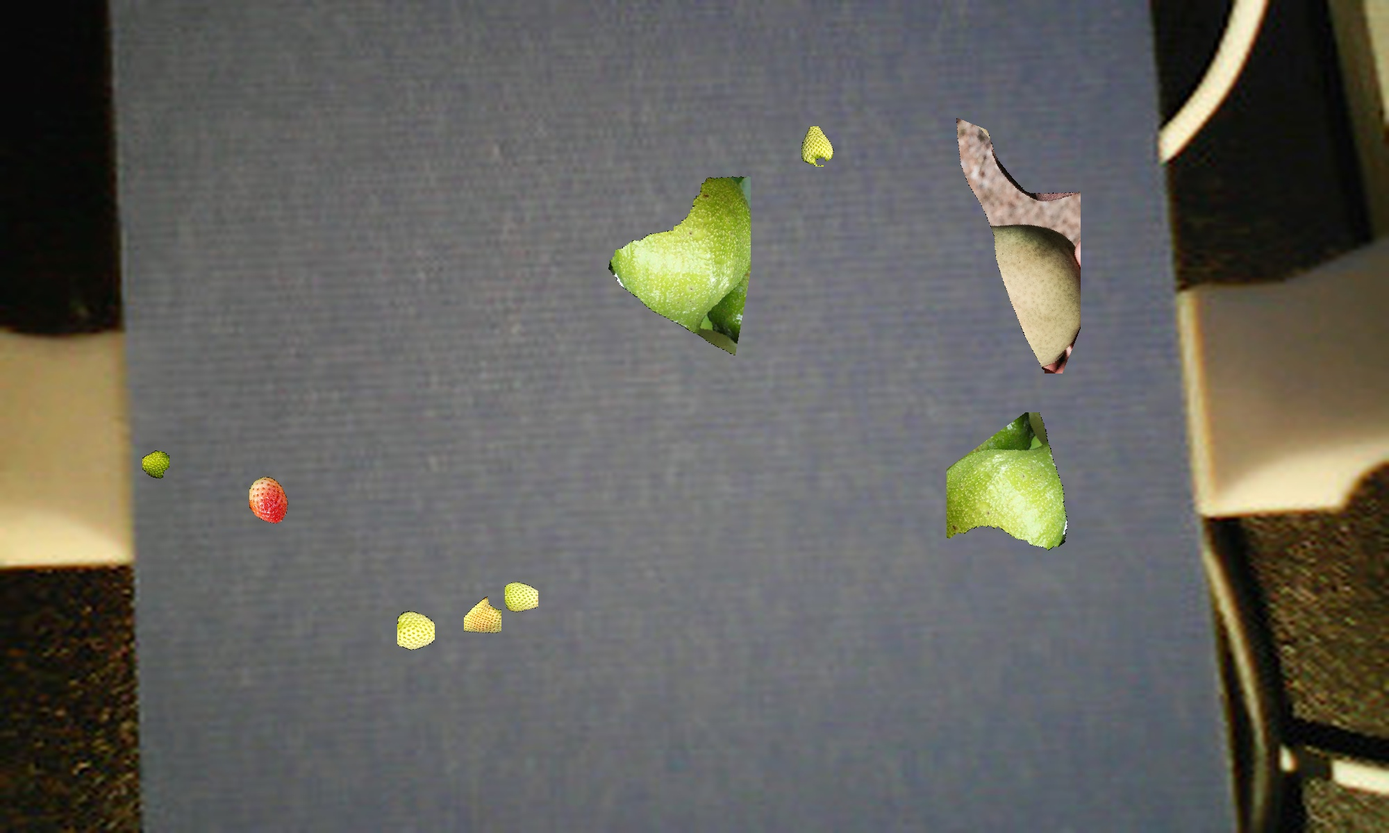not strawberry: (909, 402, 1086, 567), (598, 189, 796, 327), (972, 222, 1094, 379)
strawberry: (390, 604, 516, 651), (236, 463, 302, 533)
